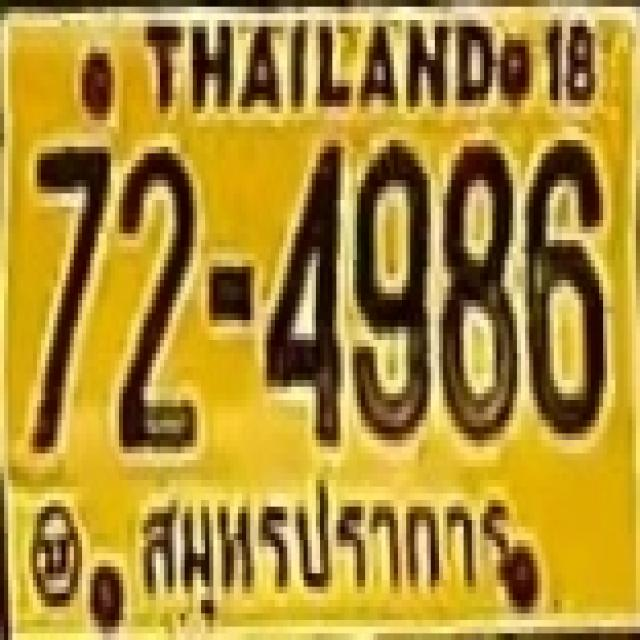2: (115, 143, 193, 450)
4: (262, 133, 336, 440)
6: (521, 137, 603, 430)
7: (28, 140, 106, 447)
8: (439, 140, 513, 433)
9: (348, 140, 426, 433)
SPK: (128, 475, 517, 608)
